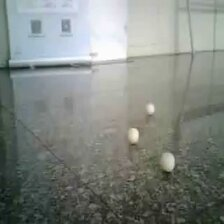tennis: (172, 95, 191, 120), (110, 69, 123, 87), (49, 59, 60, 75), (126, 53, 135, 67)
